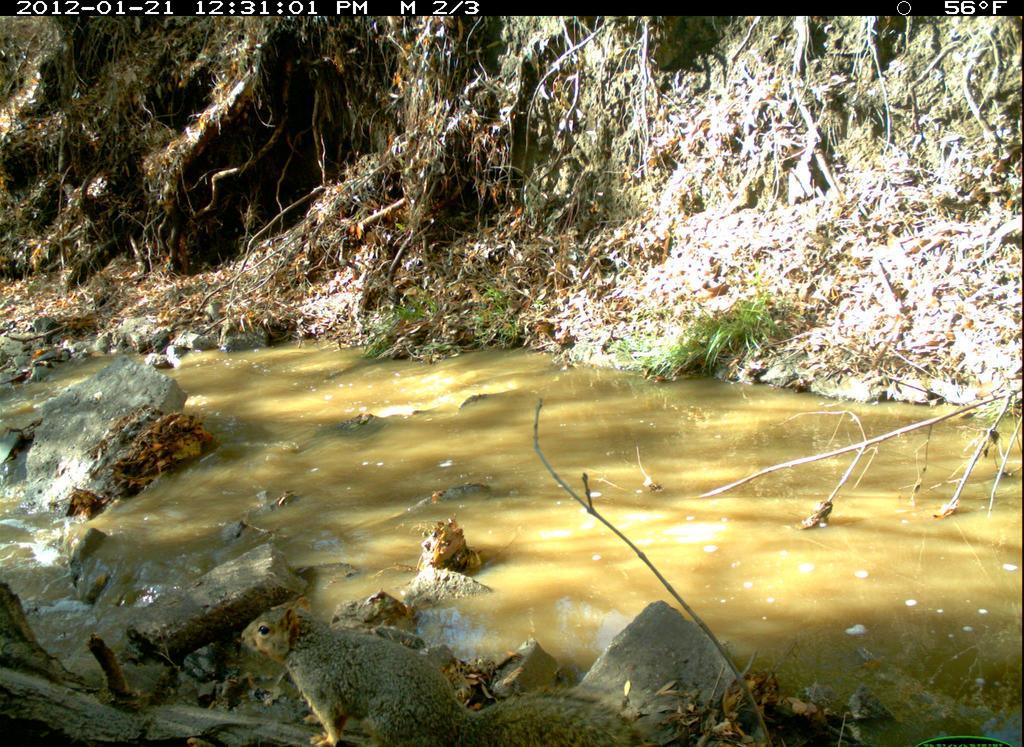squirrel: (210, 588, 673, 747)
